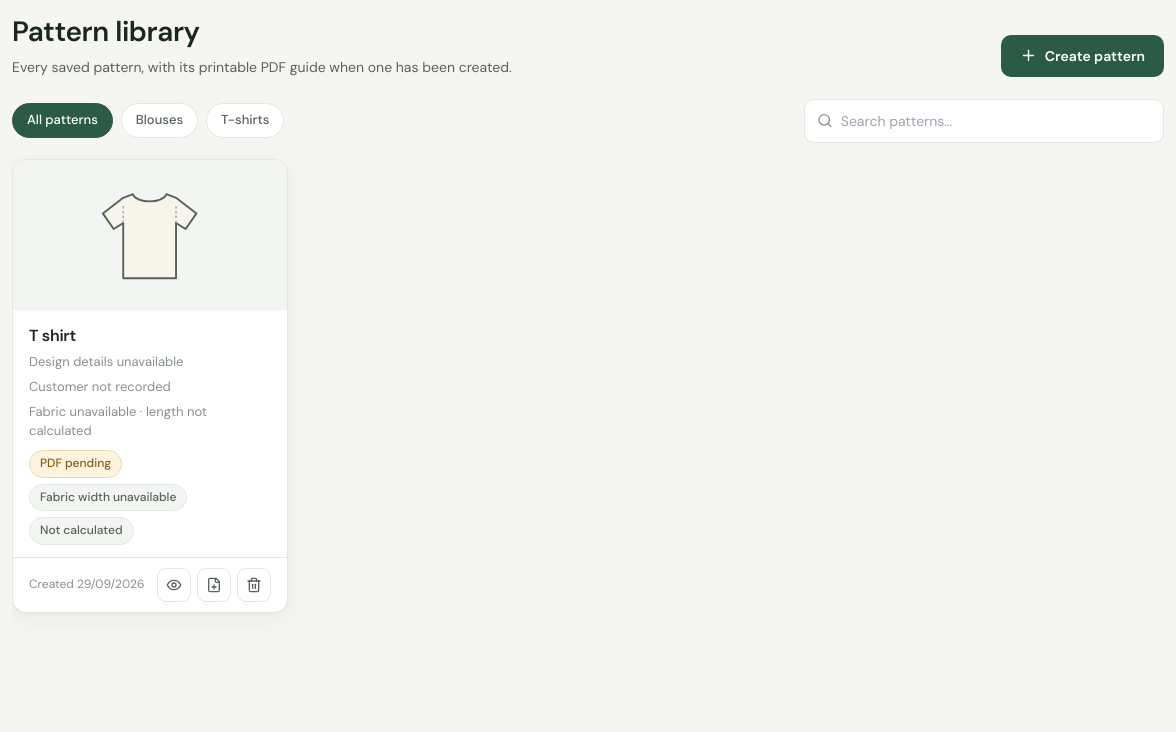
Test: Pattern library › keeps the pattern on screen and explains when a delete fails
Click the button named "Delete pattern".
click(254, 585)  # box x1=237 y1=568 x2=271 y2=602
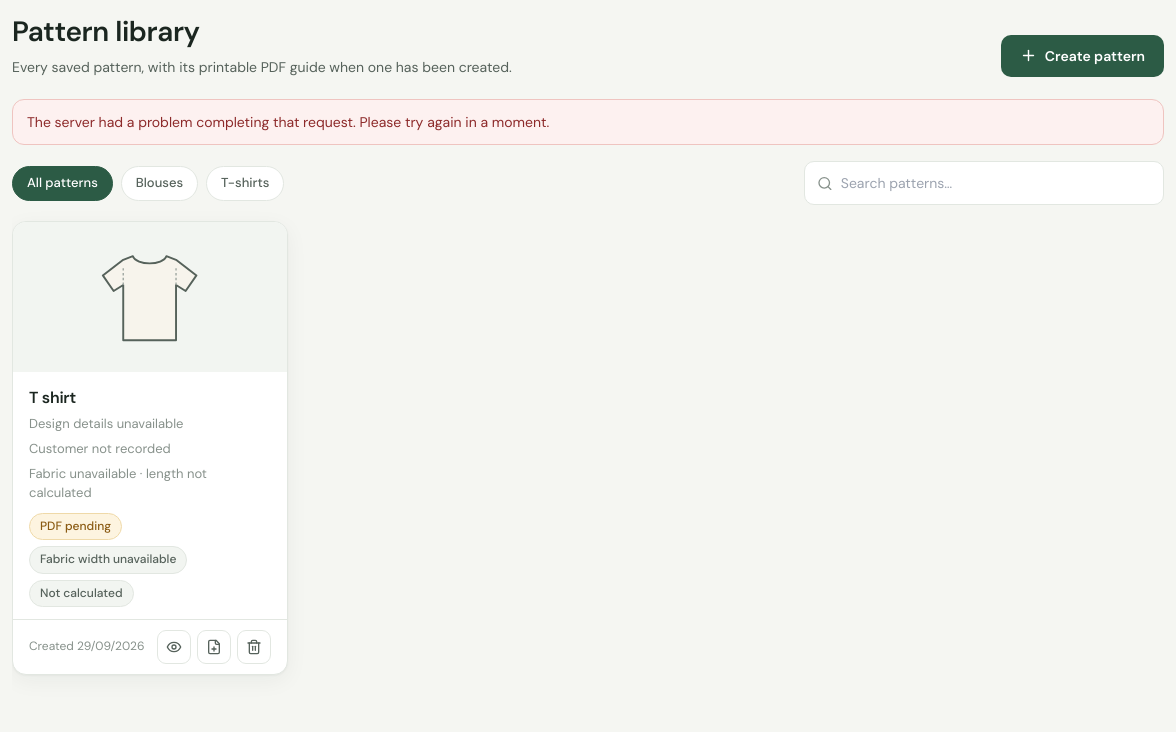
Check: the element with test id "library-item-p2" is shown, box x1=12 y1=221 x2=288 y2=675
Check: the message shows "server had a problem", box x1=27 y1=113 x2=549 y2=131
